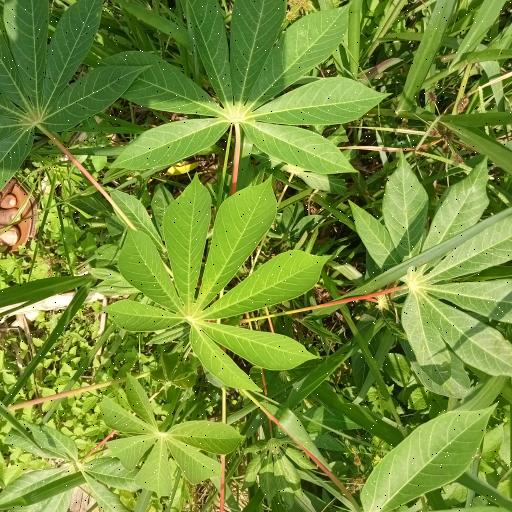Cassava_Healthy: (110, 1, 380, 175), (111, 176, 328, 392), (0, 0, 138, 181)
